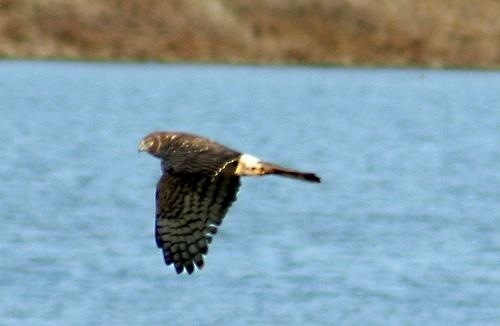bird: (135, 130, 322, 276)
